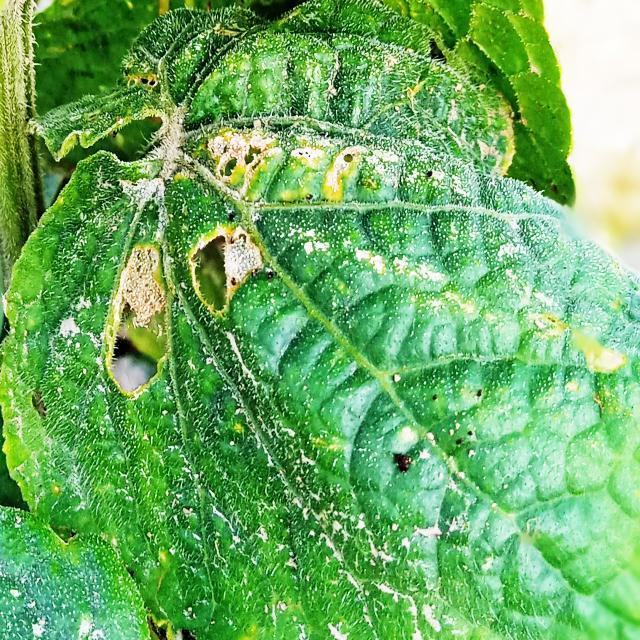Anthracnose: (105, 234, 178, 404), (185, 209, 264, 319), (197, 130, 283, 193)
